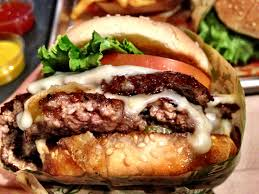hamburger: (17, 11, 238, 186)
